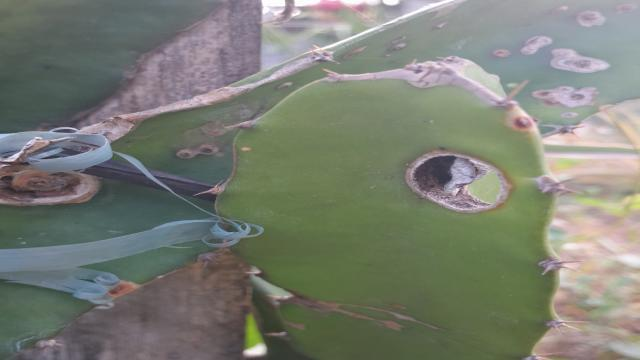stemcanker: (548, 45, 613, 78), (528, 83, 609, 109), (571, 0, 612, 37), (197, 117, 256, 139), (477, 37, 517, 65), (170, 142, 223, 161), (518, 30, 554, 57), (510, 108, 535, 138), (227, 140, 262, 160)
